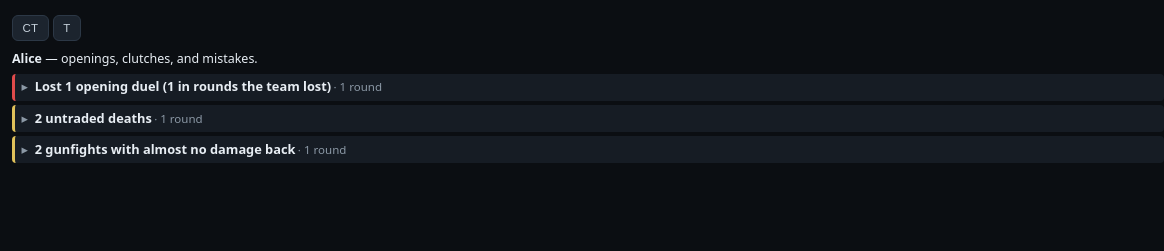
Scenario: Review › counts a repeated round once on a player spoiler and keeps every event
expect the heading "2 gunfights with almost no damage back · 1 round" is shown: met, box x1=35 y1=140 x2=346 y2=158
Step 1. Click the heading "2 untraded deaths · 1 round" → (119, 118), box x1=35 y1=109 x2=203 y2=127
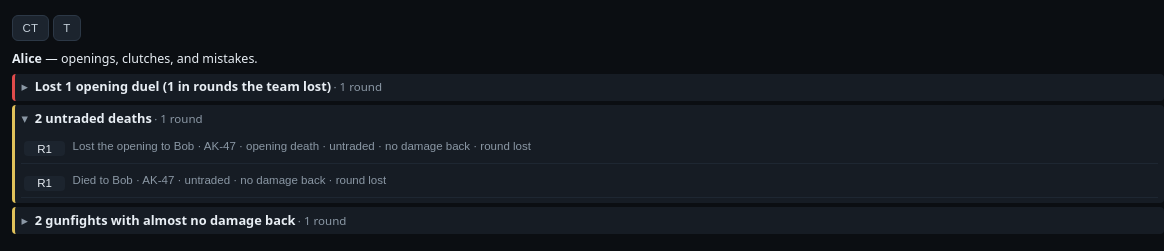
expect the number of buttons "R1" is 2: met, box x1=21 y1=133 x2=1158 y2=164; x1=21 y1=168 x2=1158 y2=198
